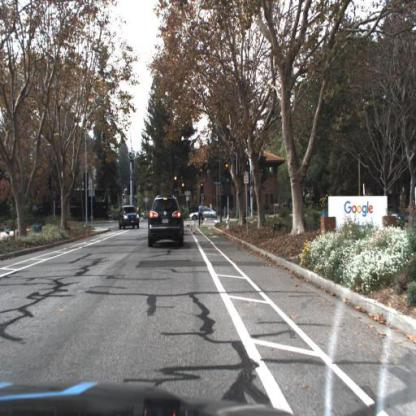biker: (197, 203, 205, 226)
car: (148, 194, 186, 248), (117, 205, 142, 230)
trafficLight-Red: (224, 161, 231, 182), (173, 176, 179, 193), (200, 182, 206, 195), (182, 182, 187, 196)
truck: (43, 189, 113, 220), (52, 190, 112, 219)
